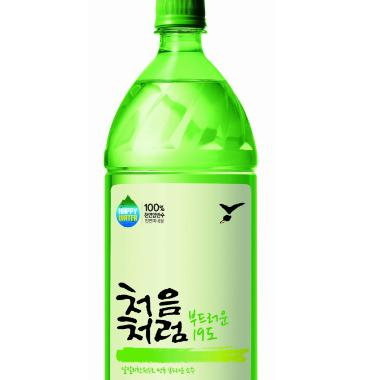soju: (101, 1, 261, 380)
